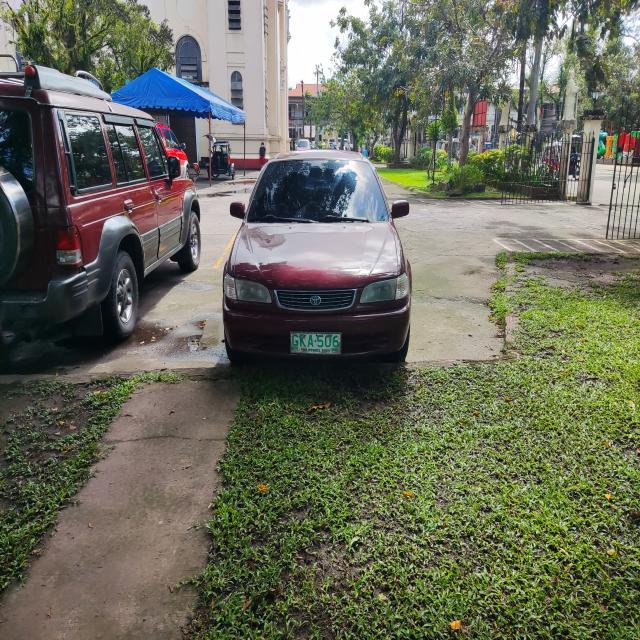LicensePlate: (284, 327, 357, 366)
